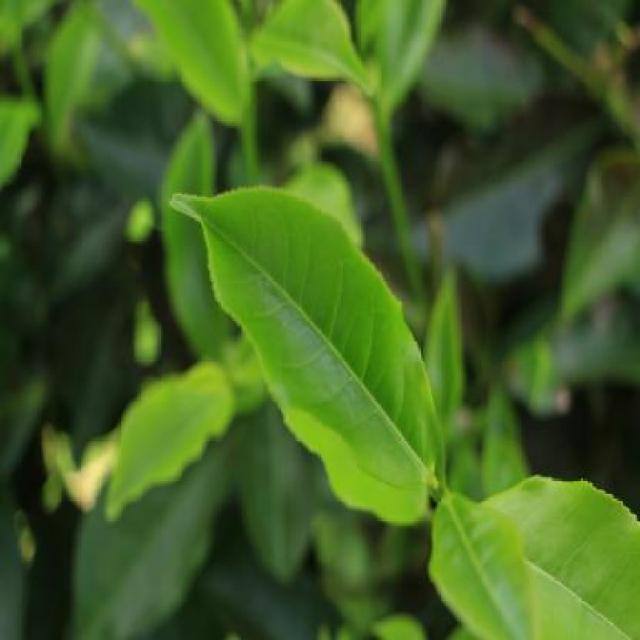Tea leaf: (171, 172, 443, 518)
